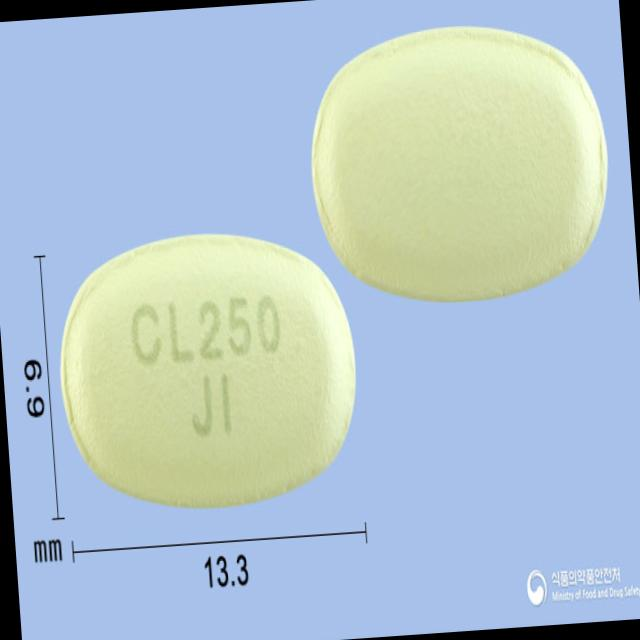Jecli - 500mg: (51, 222, 367, 521)
